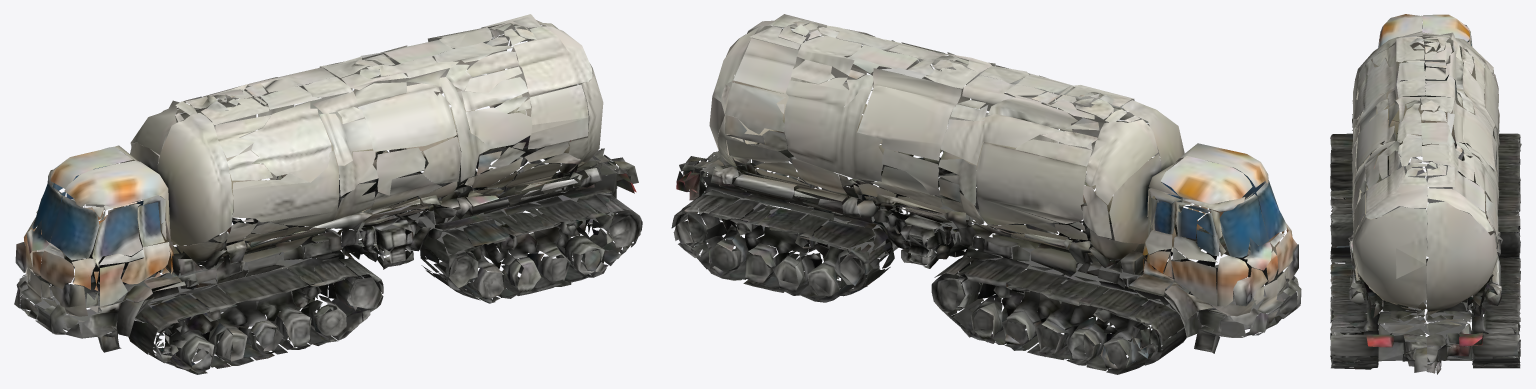
The model's file is mars_cargo_crawler.glb.
3 views of the same model, side by side, from view 1: azimuth 30°, elevation 25°; view 2: azimuth 150°, elevation 25°; view 3: azimuth 270°, elevation 25° (orthographic). The views are drawn at different scales.
Visible parts, largest first — view 1: mars_cargo_crawler; view 2: mars_cargo_crawler; view 3: mars_cargo_crawler.
Part boxes in pixels (x1=…): mars_cargo_crawler: x1=14, y1=14, x2=642, y2=374; mars_cargo_crawler: x1=671, y1=14, x2=1301, y2=374; mars_cargo_crawler: x1=1330, y1=14, x2=1521, y2=374.
Bounding box in the file's own units: 12.95 × 4.63 × 4.13.
1 material, 1 textured.
